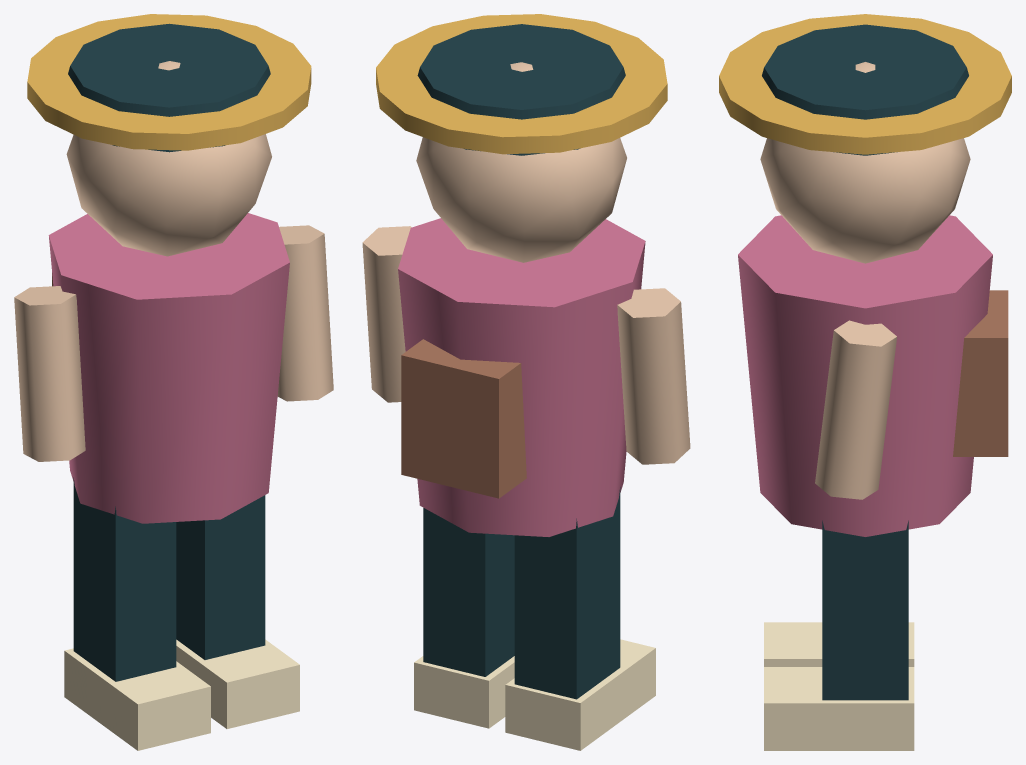
File: guest_e.glb
3 views of the same model, side by side, from view 1: azimuth 30°, elevation 25°; view 2: azimuth 150°, elevation 25°; view 3: azimuth 270°, elevation 25° (orthographic). The views are drawn at different scales.
Parts seen in each view (by area): view 1: guest_e; view 2: guest_e; view 3: guest_e.
Part boxes in pixels (left/top/right/bottom): guest_e: left=14, top=14, right=333, bottom=750; guest_e: left=362, top=14, right=690, bottom=750; guest_e: left=719, top=14, right=1011, bottom=750.
Size of the model in its own units: 0.9272 by 1.9 by 0.78.
